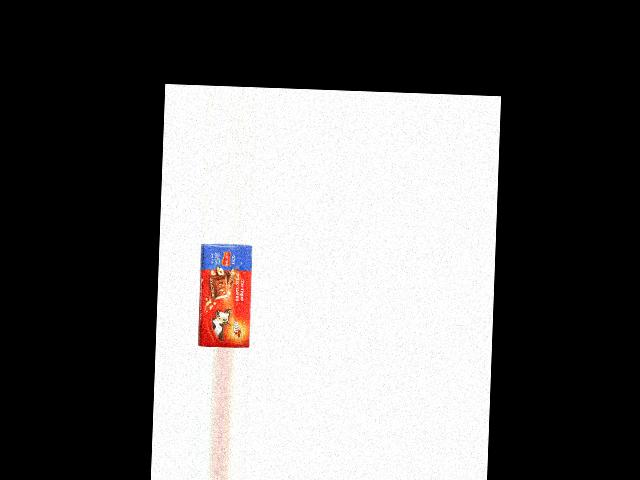chocolate: (193, 244, 251, 348)
